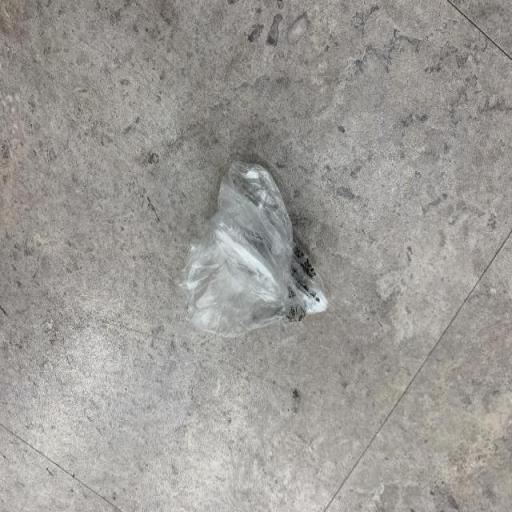plastic-bag: (178, 157, 332, 340)
